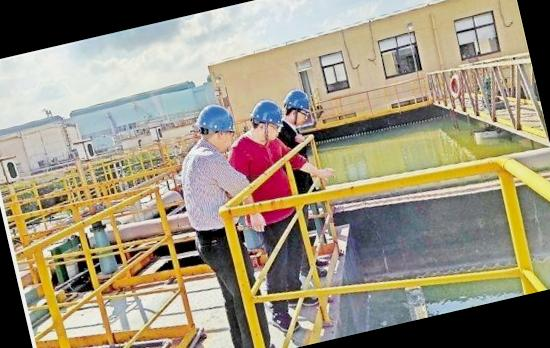helmet: (190, 100, 242, 142), (245, 96, 288, 136), (278, 86, 318, 126)
no_vest: (176, 135, 252, 241), (233, 126, 298, 212)
person: (163, 99, 294, 348)
